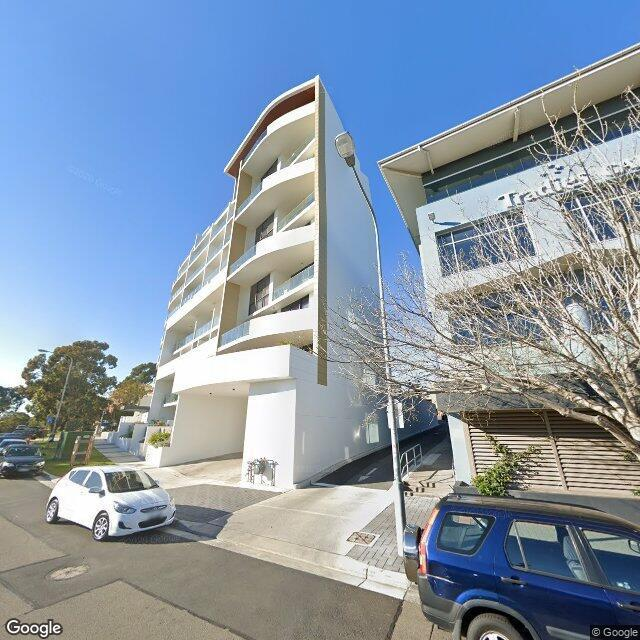steel-pole: (375, 223, 405, 557), (50, 360, 73, 441)
streetlight: (334, 130, 377, 224), (38, 348, 72, 360)
